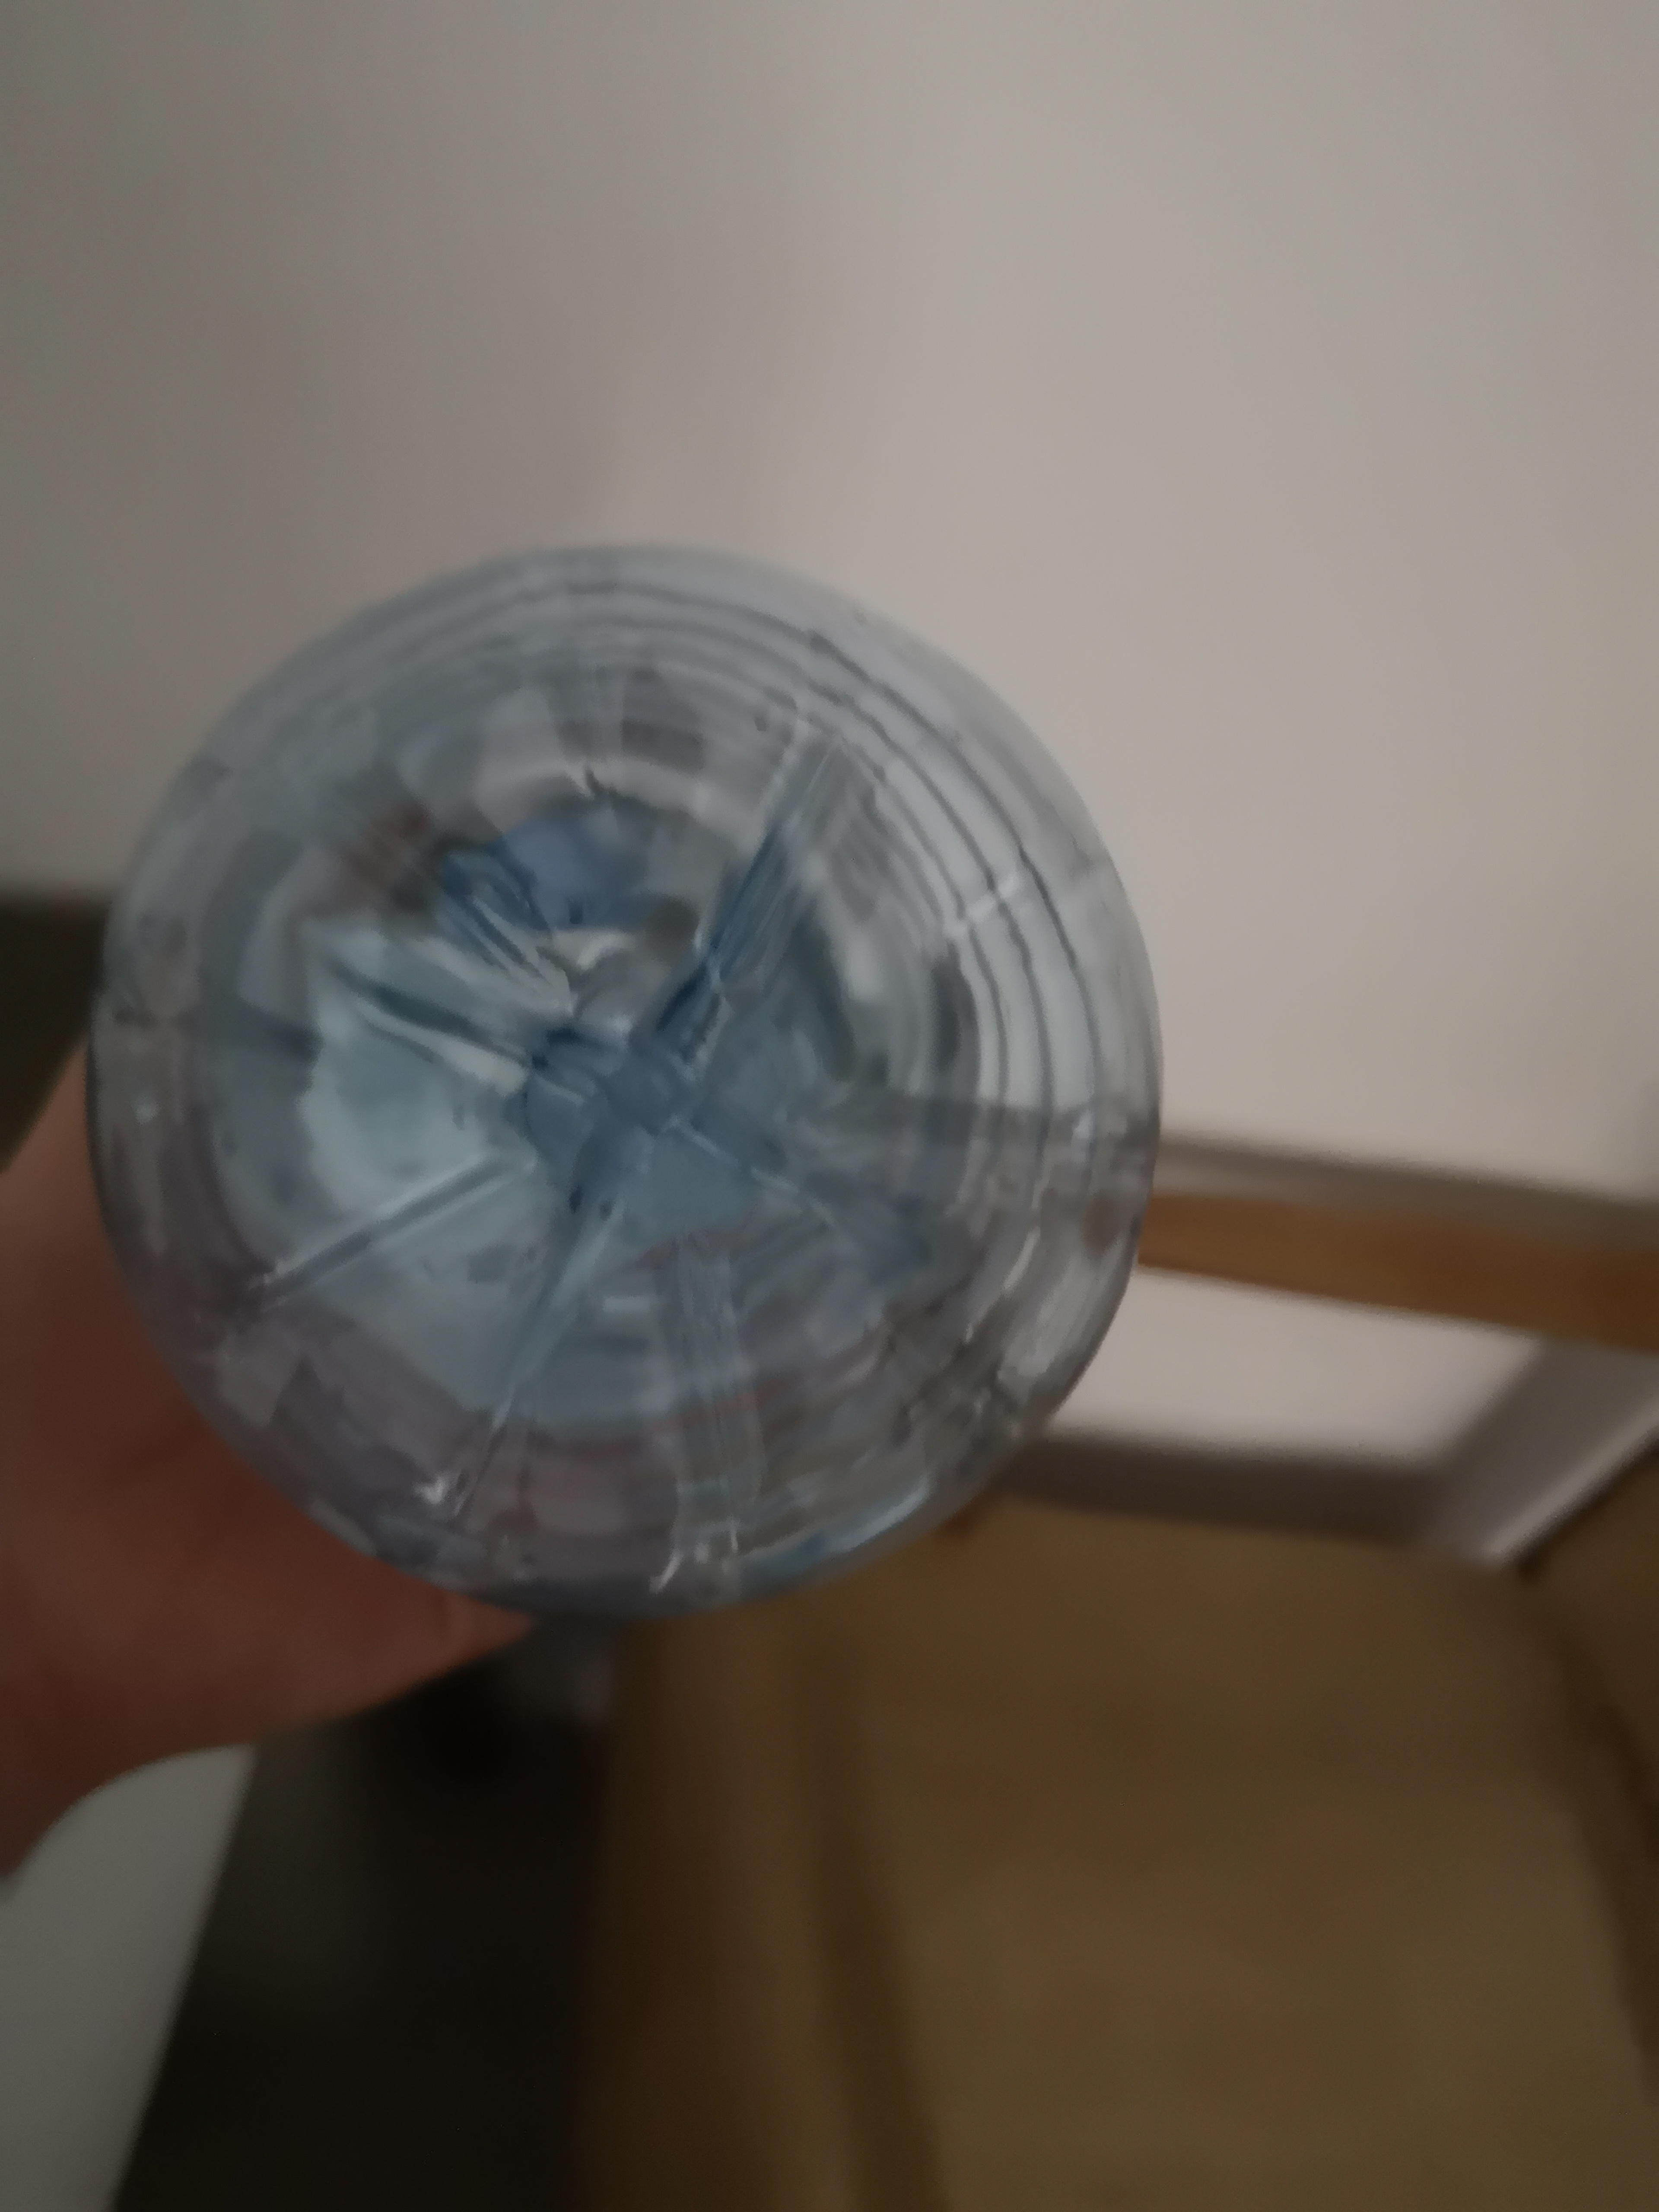plastic_bottle: (78, 517, 1187, 1656)
